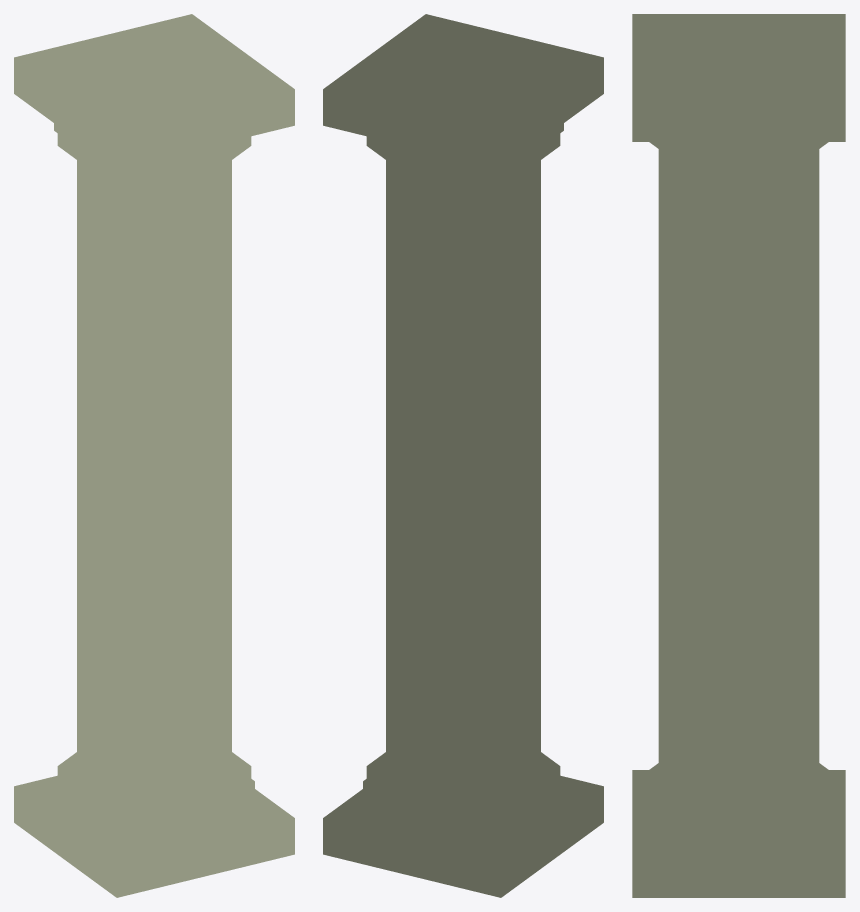
The model's file is column.dae.
3 renders of one model, left to right at view 1: azimuth 30°, elevation 25°; view 2: azimuth 150°, elevation 25°; view 3: azimuth 270°, elevation 25°, orthographic. The views are drawn at different scales.
Visible parts, largest first — view 1: cube1-0; view 2: cube1-0; view 3: cube1-0.
Boxes of the visible parts, x1=… form: cube1-0: x1=14, y1=14, x2=294, y2=897; cube1-0: x1=323, y1=14, x2=603, y2=897; cube1-0: x1=632, y1=14, x2=845, y2=897.
Bounding box in the file's own units: 2 × 8.22 × 2.
